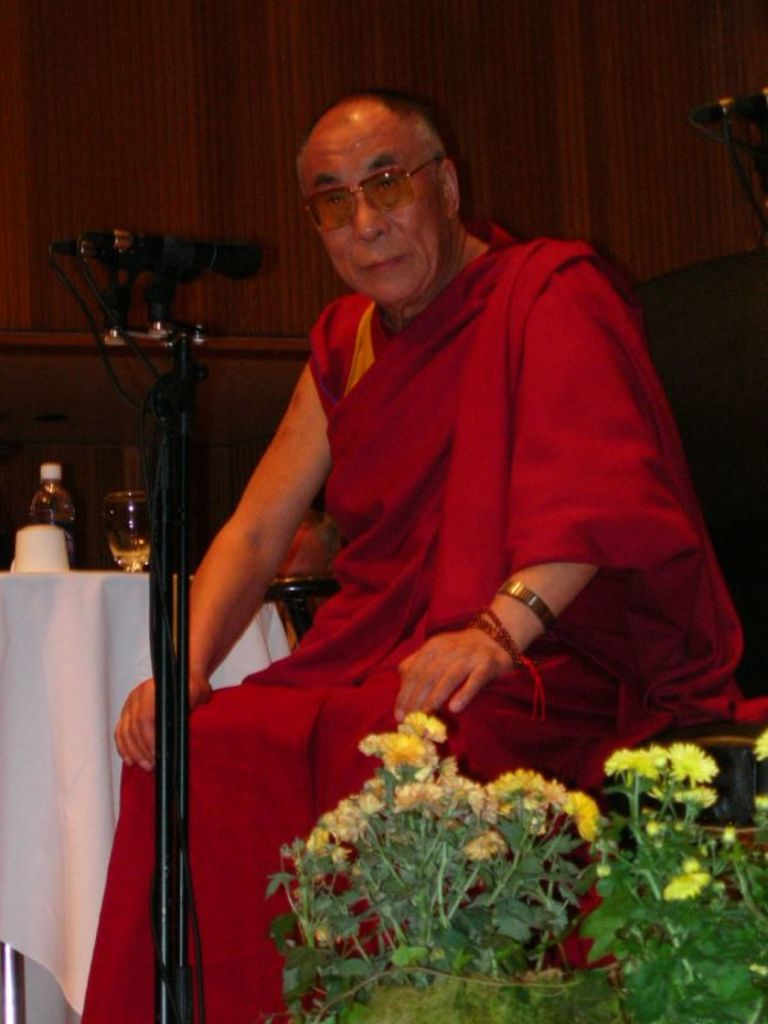Person: (79, 87, 768, 1024)
